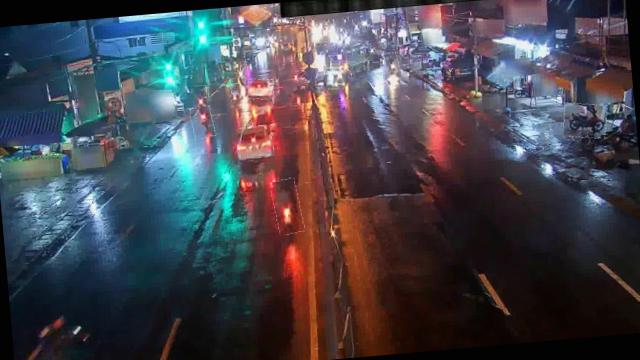Bike: (270, 178, 304, 235), (562, 100, 608, 140), (190, 105, 215, 139), (384, 53, 400, 74), (230, 83, 243, 107), (195, 85, 208, 107)
Car: (236, 125, 274, 160), (247, 78, 275, 100)
